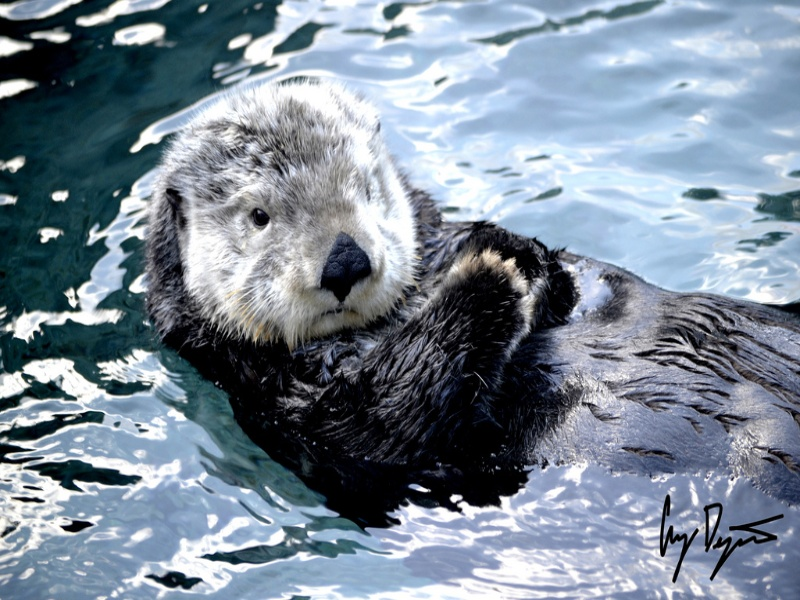minkish: (140, 81, 788, 525)
